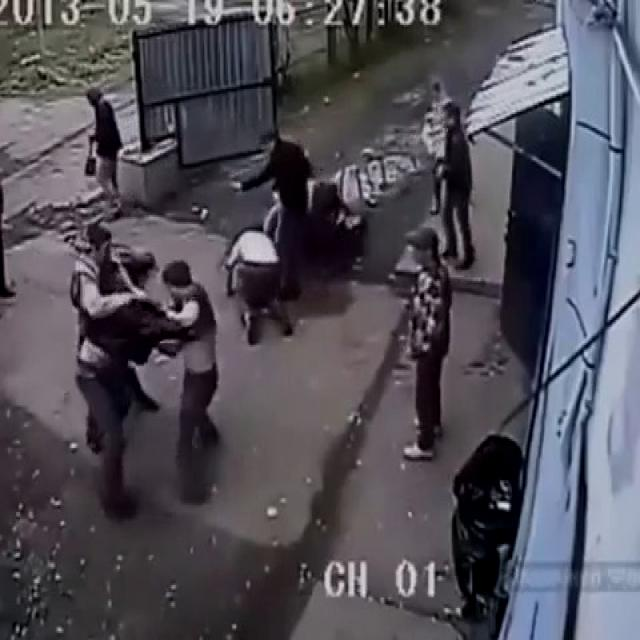fight: (76, 258, 217, 522), (73, 222, 164, 519), (222, 129, 314, 347)
